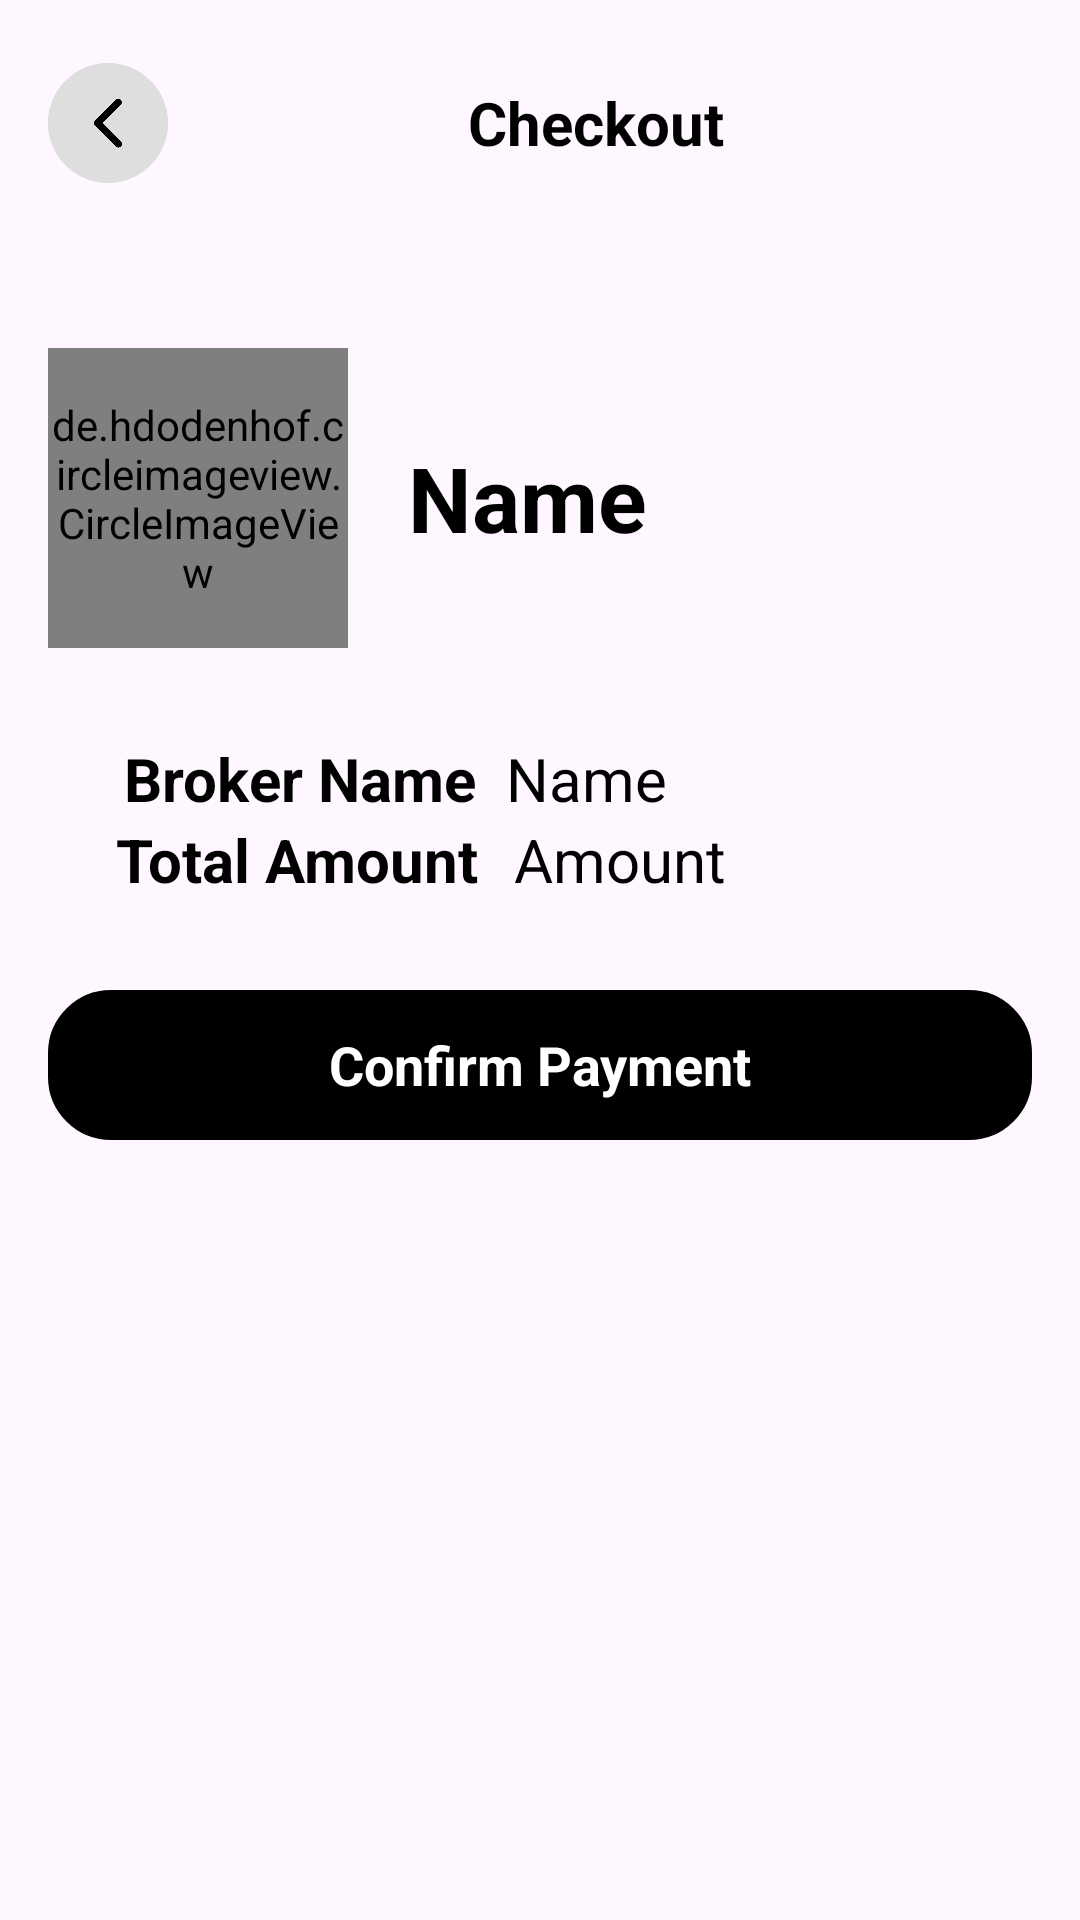

Screen size 1080×1920. Icon name, then its box in pixels as (x1, y1, x2, y2):
lefttt: (48, 63, 168, 183)
